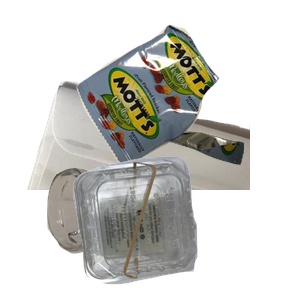glass: (44, 165, 178, 300)
paper: (25, 79, 265, 259)
plastic: (71, 154, 300, 300)
trash: (74, 22, 300, 185)
